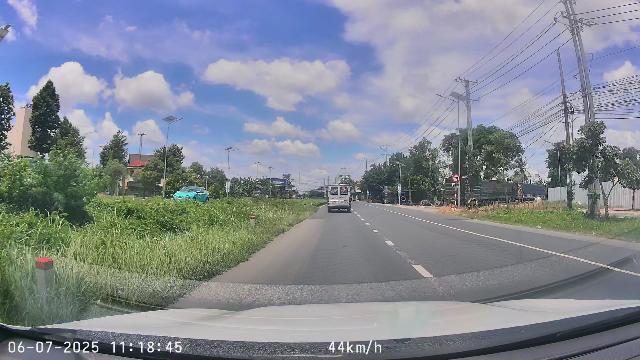123a-cam-re-trai: (452, 174, 460, 183)
